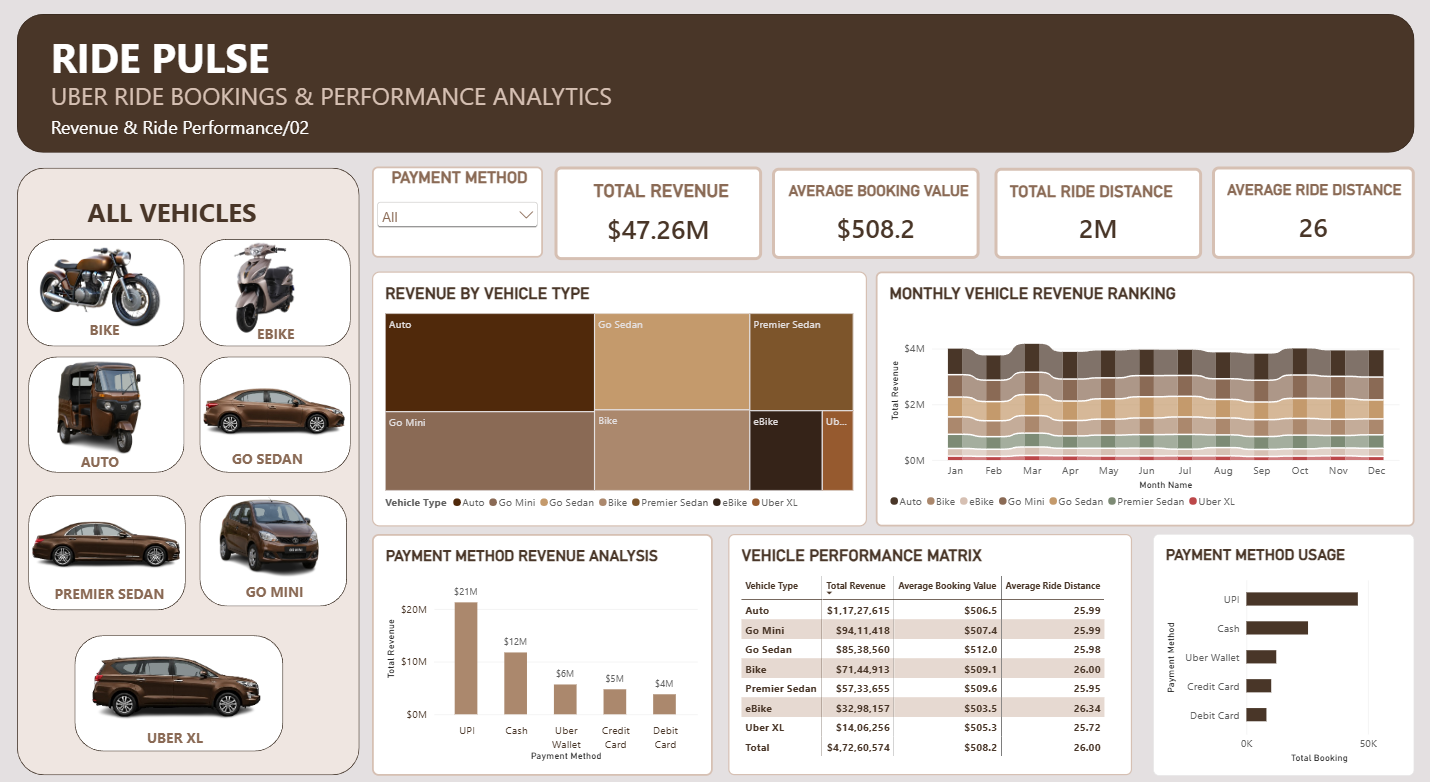

Layout of this report page (visuals, bound fields, positions):
{"tool":"powerbi","page":{"name":"Revenue & Ride Performance","canvas":[1920,1080],"ordinal":1},"visuals":[{"type":"card","title":"TOTAL REVENUE","fields":{"Values":["ncr_ride_bookings_cleaned.Total Revenue"]},"box":[750,236.7,276.7,125],"z":0},{"type":"slicer","title":"VEHICLE TYPE","fields":{"Values":["ncr_ride_bookings_cleaned.Vehicle Type"]},"box":[910,95,224.3,99.7],"z":1000},{"type":"shape","box":[33.3,33.3,1863.3,185],"z":2000},{"type":"textbox","box":[77.5,55,1665,92.5],"z":3000},{"type":"textbox","box":[77.5,120,1744.3,73.8],"z":4000},{"type":"textbox","box":[77.5,167.5,1422.2,57],"z":5000},{"type":"card","title":"AVERAGE BOOKING VALUE","fields":{"Values":["ncr_ride_bookings_cleaned.Average Booking Value"]},"box":[1040,238.3,276.7,121.7],"z":6000},{"type":"card","title":"TOTAL RIDE DISTANCE","fields":{"Values":["ncr_ride_bookings_cleaned.Total Ride Distance"]},"box":[1336.7,238.3,276.7,121.7],"z":7000},{"type":"card","title":"AVERAGE RIDE DISTANCE","fields":{"Values":["ncr_ride_bookings_cleaned.Average Ride Distance"]},"box":[1626.7,236.7,270,123.3],"z":8000},{"type":"image","title":"uber xl","box":[130,853.8,255,142.5],"z":8006,"group":"g6"},{"type":"image","title":"auto","box":[85.8,473.3,114.8,175],"z":8007,"group":"g1"},{"type":"image","title":"go mini","box":[275,645,187.3,152.5],"z":8008,"group":"g2"},{"type":"image","title":"premium sedan","box":[46.7,661.7,210,168.3],"z":8009,"group":"g5"},{"type":"image","title":"go sedan","box":[276.7,490,206.4,154.1],"z":8010,"group":"g3"},{"type":"image","title":"ebike","box":[283.3,316.7,180.8,163.3],"z":8011,"group":"g7"},{"type":"image","title":"bike","box":[35.8,316.7,210,160],"z":8012,"group":"g4"},{"type":"actionButton","title":"auto Button","box":[73.3,498.1,145,120.1],"z":8013,"group":"g1"},{"type":"actionButton","title":"mini button","box":[283.1,660,192.5,120],"z":8015,"group":"g2"},{"type":"actionButton","title":"go sedan button","box":[294.1,516.3,194.8,92.1],"z":8017,"group":"g3"},{"type":"actionButton","title":"bike button","box":[28.3,336.7,205,105],"z":8019,"group":"g4"},{"type":"actionButton","title":"premiur sedan button","box":[72.3,686.6,151.7,105.9],"z":8021,"group":"g5"},{"type":"actionButton","title":"uber xl button","box":[129.4,861.9,222.5,142.5],"z":8023,"group":"g6"},{"type":"actionButton","title":"ebike button","box":[284.9,342.7,177.7,123.1],"z":8025,"group":"g7"},{"type":"treemap","title":"REVENUE BY VEHICLE TYPE","fields":{"Group":["ncr_ride_bookings_cleaned.Vehicle Type"],"Values":["ncr_ride_bookings_cleaned.Total Revenue"]},"box":[506.7,376.7,660,340],"z":9000},{"type":"columnChart","title":"PAYMENT METHOD REVENUE ANALYSIS","fields":{"Category":["ncr_ride_bookings_cleaned.Payment Method"],"Y":["ncr_ride_bookings_cleaned.Total Revenue"]},"box":[506,726,454,322],"z":10000},{"type":"ribbonChart","title":"MONTHLY VEHICLE REVENUE RANKING","fields":{"Category":["ncr_ride_bookings_cleaned.Month Name"],"Series":["ncr_ride_bookings_cleaned.Vehicle Type"],"Y":["ncr_ride_bookings_cleaned.Total Revenue"]},"box":[1178,376,718,340],"z":11000},{"type":"slicer","title":"PAYMENT METHOD","fields":{"Values":["ncr_ride_bookings_cleaned.Payment Method"]},"box":[506.7,236.7,228.3,121.7],"z":12000},{"type":"shape","box":[33.3,238.3,456.7,810],"z":13000},{"type":"shape","box":[46.7,333.3,210,143.3],"z":14000},{"type":"shape","box":[276.7,333.3,201.7,143.3],"z":15000},{"type":"shape","box":[48.3,490,208.3,155],"z":16000},{"type":"shape","box":[276.7,490,201.7,155],"z":17000},{"type":"shape","box":[48.3,675,210,153.3],"z":18000},{"type":"shape","box":[276.7,675,196.7,148.3],"z":19000},{"type":"shape","box":[110,861.7,278.3,155],"z":20000},{"type":"group","id":"g1","title":"Group 1","box":[73.3,473.3,145,175],"z":21000},{"type":"group","id":"g2","title":"Group 2","box":[275,645,200,153.3],"z":22000},{"type":"group","id":"g3","title":"Group 3","box":[276.7,490,213.3,155],"z":23000},{"type":"group","id":"g4","title":"Group 4","box":[28.3,316.7,216.7,160],"z":24000},{"type":"group","id":"g5","title":"Group 5","box":[46.7,661.7,210,168.3],"z":25000},{"type":"group","id":"g6","title":"Group 6","box":[129.4,853.8,255.6,150.6],"z":26000},{"type":"group","id":"g7","title":"Group 7","box":[283.3,316.7,181.7,163.3],"z":27000},{"type":"actionButton","box":[110,266.7,260,58.3],"z":28000},{"type":"textbox","box":[130,441.7,71.7,31.7],"z":29000},{"type":"textbox","box":[353.3,446.7,78.3,38.3],"z":30000},{"type":"textbox","box":[118.3,616.7,83.3,31.7],"z":31000},{"type":"textbox","box":[320,613.3,111.7,31.7],"z":32000},{"type":"textbox","box":[83.3,793.3,151.7,45],"z":33000},{"type":"textbox","box":[338.3,790,98.3,33.3],"z":34000},{"type":"textbox","box":[206.7,985,86.7,31.7],"z":35000},{"type":"pivotTable","title":"VEHICLE PERFORMANCE MATRIX","fields":{"Rows":["ncr_ride_bookings_cleaned.Vehicle Type"],"Values":["ncr_ride_bookings_cleaned.Total Revenue","ncr_ride_bookings_cleaned.Average Booking Value","ncr_ride_bookings_cleaned.Average Ride Distance"]},"box":[981.7,726.7,538.3,321.7],"z":36000},{"type":"barChart","title":"PAYMENT METHOD USAGE","fields":{"Category":["ncr_ride_bookings_cleaned.Payment Method"],"Y":["Count(ncr_ride_bookings_cleaned.Booking ID)"]},"box":[1548,726,348,322],"z":36001}]}

Visuals, with their boxes in screenshot pixels (x1, y1, x2, y2), scaled from the page's 1920x1080 canvas onto the 1430x782 screenshot:
"TOTAL REVENUE" card: [x1=559, y1=171, x2=765, y2=262]
"VEHICLE TYPE" slicer: [x1=678, y1=69, x2=845, y2=141]
shape: [x1=25, y1=24, x2=1413, y2=158]
textbox: [x1=58, y1=40, x2=1298, y2=107]
textbox: [x1=58, y1=87, x2=1357, y2=140]
textbox: [x1=58, y1=121, x2=1117, y2=163]
"AVERAGE BOOKING VALUE" card: [x1=775, y1=173, x2=981, y2=261]
"TOTAL RIDE DISTANCE" card: [x1=996, y1=173, x2=1202, y2=261]
"AVERAGE RIDE DISTANCE" card: [x1=1212, y1=171, x2=1413, y2=261]
"uber xl" image: [x1=97, y1=618, x2=287, y2=721]
"auto" image: [x1=64, y1=343, x2=149, y2=469]
"go mini" image: [x1=205, y1=467, x2=344, y2=577]
"premium sedan" image: [x1=35, y1=479, x2=191, y2=601]
"go sedan" image: [x1=206, y1=355, x2=360, y2=466]
"ebike" image: [x1=211, y1=229, x2=346, y2=348]
"bike" image: [x1=27, y1=229, x2=183, y2=345]
"auto Button" actionButton: [x1=55, y1=361, x2=163, y2=448]
"mini button" actionButton: [x1=211, y1=478, x2=354, y2=565]
"go sedan button" actionButton: [x1=219, y1=374, x2=364, y2=441]
"bike button" actionButton: [x1=21, y1=244, x2=174, y2=320]
"premiur sedan button" actionButton: [x1=54, y1=497, x2=167, y2=574]
"uber xl button" actionButton: [x1=96, y1=624, x2=262, y2=727]
"ebike button" actionButton: [x1=212, y1=248, x2=345, y2=337]
"REVENUE BY VEHICLE TYPE" treemap: [x1=377, y1=273, x2=869, y2=519]
"PAYMENT METHOD REVENUE ANALYSIS" columnChart: [x1=377, y1=526, x2=715, y2=759]
"MONTHLY VEHICLE REVENUE RANKING" ribbonChart: [x1=877, y1=272, x2=1412, y2=518]
"PAYMENT METHOD" slicer: [x1=377, y1=171, x2=547, y2=260]
shape: [x1=25, y1=173, x2=365, y2=759]
shape: [x1=35, y1=241, x2=191, y2=345]
shape: [x1=206, y1=241, x2=356, y2=345]
shape: [x1=36, y1=355, x2=191, y2=467]
shape: [x1=206, y1=355, x2=356, y2=467]
shape: [x1=36, y1=489, x2=192, y2=600]
shape: [x1=206, y1=489, x2=353, y2=596]
shape: [x1=82, y1=624, x2=289, y2=736]
"Group 1" group: [x1=55, y1=343, x2=163, y2=469]
"Group 2" group: [x1=205, y1=467, x2=354, y2=578]
"Group 3" group: [x1=206, y1=355, x2=365, y2=467]
"Group 4" group: [x1=21, y1=229, x2=182, y2=345]
"Group 5" group: [x1=35, y1=479, x2=191, y2=601]
"Group 6" group: [x1=96, y1=618, x2=287, y2=727]
"Group 7" group: [x1=211, y1=229, x2=346, y2=348]
actionButton: [x1=82, y1=193, x2=276, y2=235]
textbox: [x1=97, y1=320, x2=150, y2=343]
textbox: [x1=263, y1=323, x2=321, y2=351]
textbox: [x1=88, y1=447, x2=150, y2=469]
textbox: [x1=238, y1=444, x2=322, y2=467]
textbox: [x1=62, y1=574, x2=175, y2=607]
textbox: [x1=252, y1=572, x2=325, y2=596]
textbox: [x1=154, y1=713, x2=219, y2=736]
"VEHICLE PERFORMANCE MATRIX" pivotTable: [x1=731, y1=526, x2=1132, y2=759]
"PAYMENT METHOD USAGE" barChart: [x1=1153, y1=526, x2=1412, y2=759]
